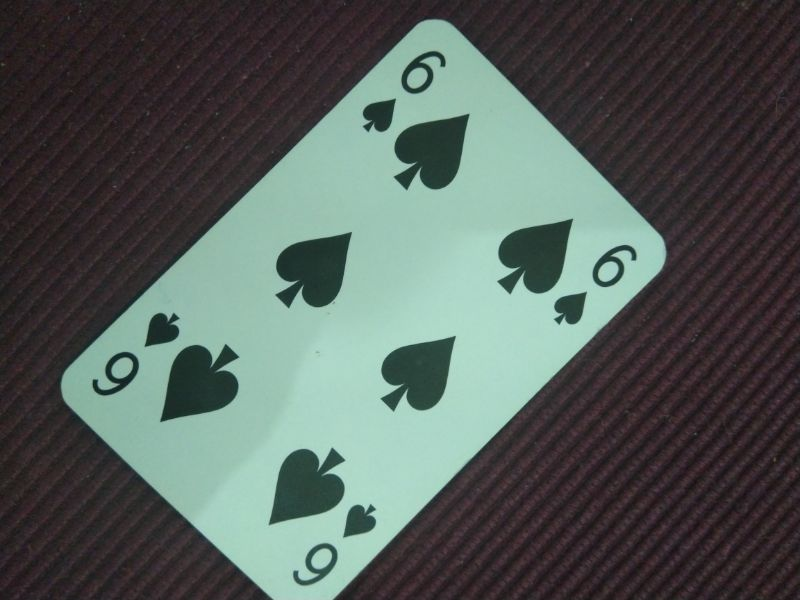6s: (90, 308, 183, 400), (357, 45, 451, 135), (548, 241, 644, 329), (289, 501, 380, 587)
